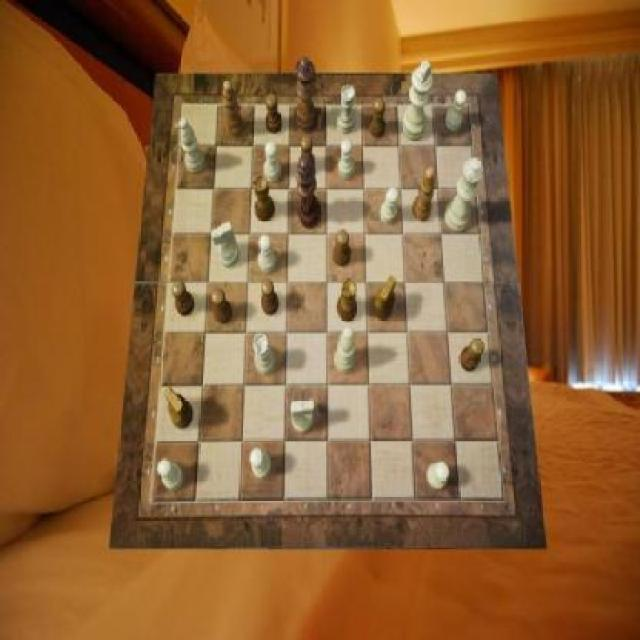bishop: (412, 168, 436, 222), (223, 80, 245, 138)
black-bishop: (296, 152, 322, 228)
black-king: (164, 386, 193, 429), (372, 276, 397, 320)
black-knight: (460, 338, 485, 372), (172, 282, 195, 318), (210, 289, 232, 324), (369, 97, 386, 138), (300, 137, 317, 177), (334, 229, 351, 267), (266, 94, 282, 134), (262, 280, 279, 316)
black-pawn: (294, 57, 318, 135)
black-queen: (252, 176, 275, 222), (337, 278, 357, 322)
black-rook: (178, 119, 206, 174), (334, 328, 356, 374)
white-bishop: (403, 60, 434, 142)
white-king: (211, 222, 238, 268), (290, 398, 314, 432)
white-knight: (445, 91, 467, 132), (158, 458, 184, 491), (380, 188, 400, 224), (264, 143, 282, 183), (338, 140, 356, 180), (249, 448, 272, 478), (259, 235, 276, 273), (428, 463, 450, 491)
white-pawn: (444, 157, 484, 231)
white-queen: (337, 86, 357, 136), (254, 334, 277, 376)
